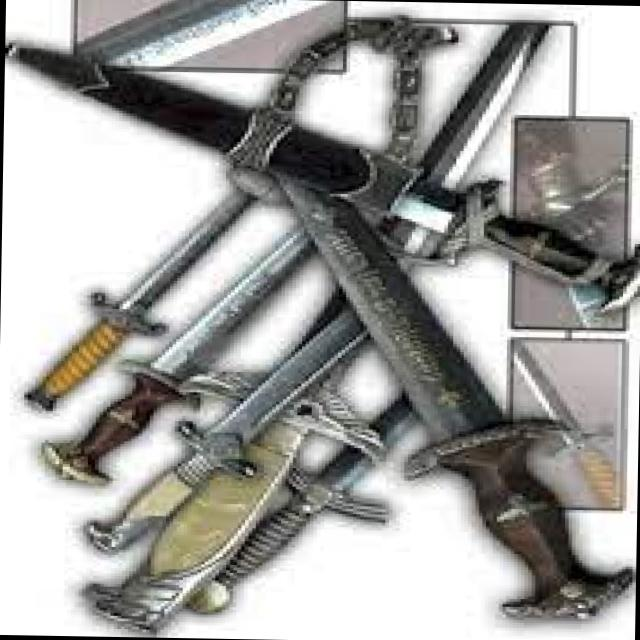Gun: (98, 0, 573, 639), (281, 129, 640, 638), (72, 225, 484, 564), (42, 167, 370, 509), (12, 140, 288, 427), (511, 334, 629, 508)
